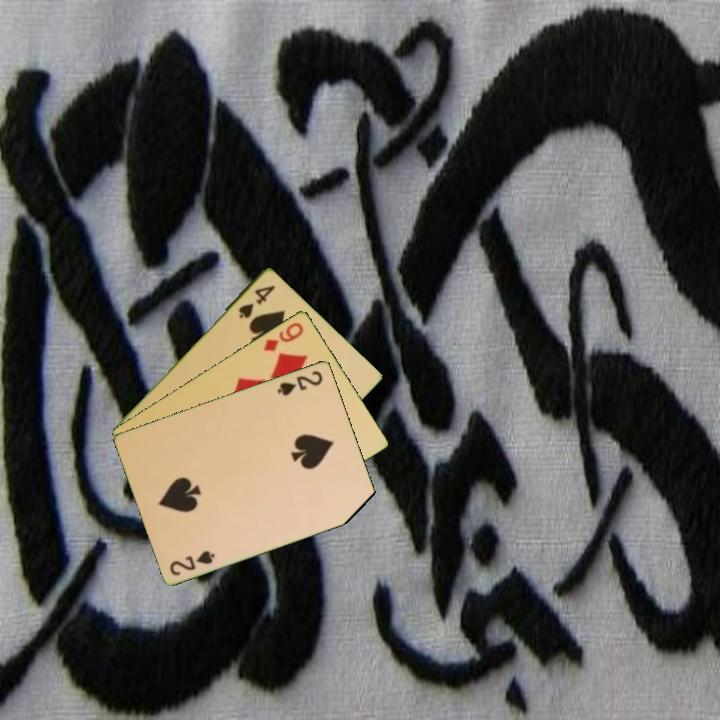2s: (274, 366, 326, 398), (166, 547, 218, 578)
4s: (235, 281, 278, 321)
9d: (260, 318, 306, 354)
